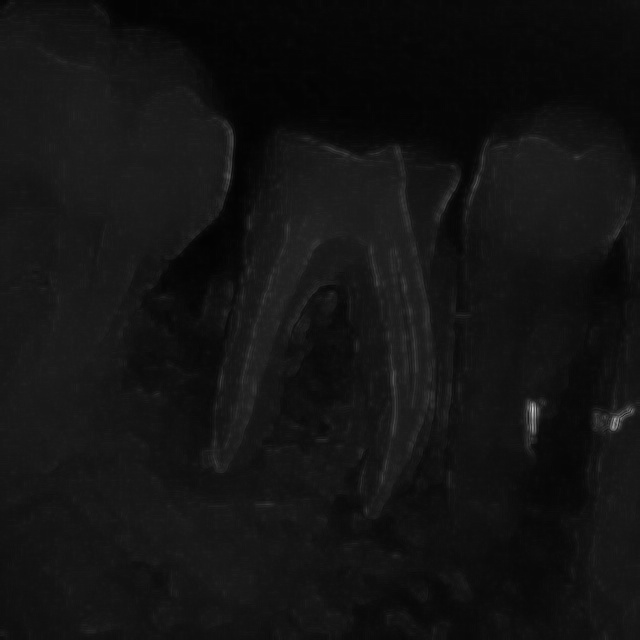Class 0- No endodontic treatment: (197, 59, 482, 574)
